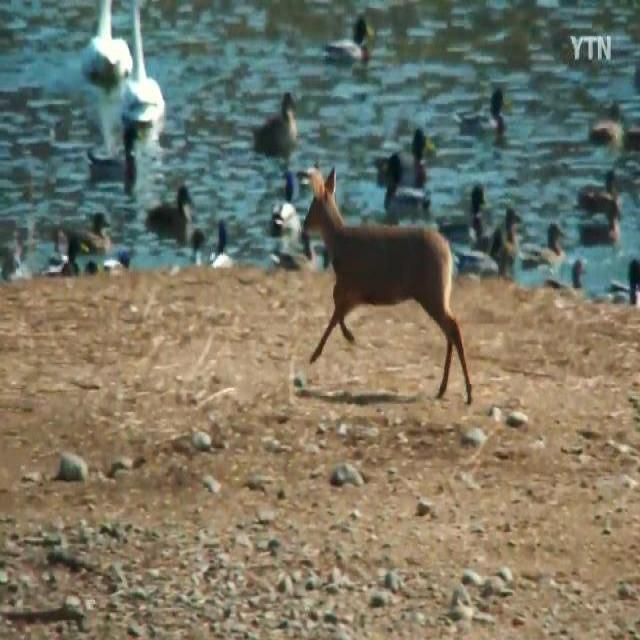deer: (300, 163, 474, 410)
